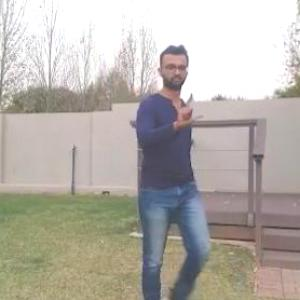land_hand: (170, 92, 206, 130)
